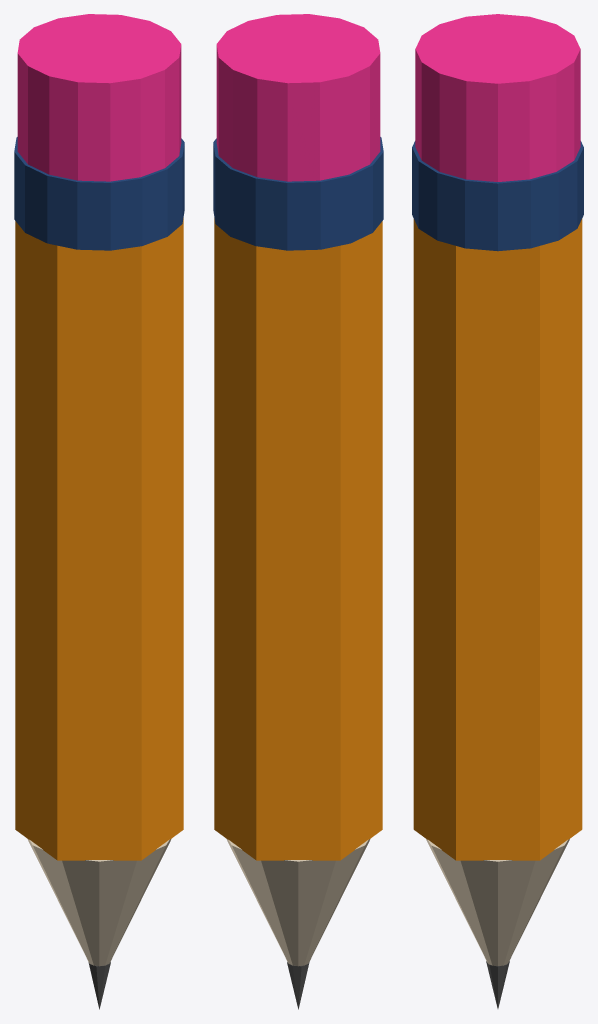
Rendered from pencil.glb.
The picture shows the model from 3 angles, left to right: view 1: azimuth 30°, elevation 25°; view 2: azimuth 150°, elevation 25°; view 3: azimuth 270°, elevation 25°; orthographic projection.
Parts seen in each view (by area): view 1: LP_Pencil_Body, LP_Pencil_Eraser, LP_Pencil_Ferrule, LP_Pencil_Wood, LP_Pencil_Lead; view 2: LP_Pencil_Body, LP_Pencil_Eraser, LP_Pencil_Ferrule, LP_Pencil_Wood, LP_Pencil_Lead; view 3: LP_Pencil_Body, LP_Pencil_Eraser, LP_Pencil_Ferrule, LP_Pencil_Wood, LP_Pencil_Lead.
Part boxes in pixels (left/top/right/bottom): LP_Pencil_Body: left=15, top=218, right=183, bottom=860; LP_Pencil_Eraser: left=17, top=14, right=181, bottom=181; LP_Pencil_Ferrule: left=14, top=137, right=184, bottom=250; LP_Pencil_Wood: left=27, top=839, right=171, bottom=966; LP_Pencil_Lead: left=88, top=962, right=110, bottom=1009; LP_Pencil_Body: left=214, top=218, right=382, bottom=860; LP_Pencil_Eraser: left=216, top=14, right=380, bottom=181; LP_Pencil_Ferrule: left=213, top=137, right=383, bottom=250; LP_Pencil_Wood: left=226, top=839, right=370, bottom=966; LP_Pencil_Lead: left=287, top=962, right=309, bottom=1009; LP_Pencil_Body: left=413, top=219, right=582, bottom=860; LP_Pencil_Eraser: left=415, top=14, right=580, bottom=181; LP_Pencil_Ferrule: left=412, top=141, right=583, bottom=251; LP_Pencil_Wood: left=426, top=839, right=569, bottom=965; LP_Pencil_Lead: left=486, top=961, right=509, bottom=1008.
Size of the model in its own units: 0.662 by 4.08 by 0.662.
